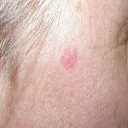Carcinoma: (60, 45, 78, 72)
